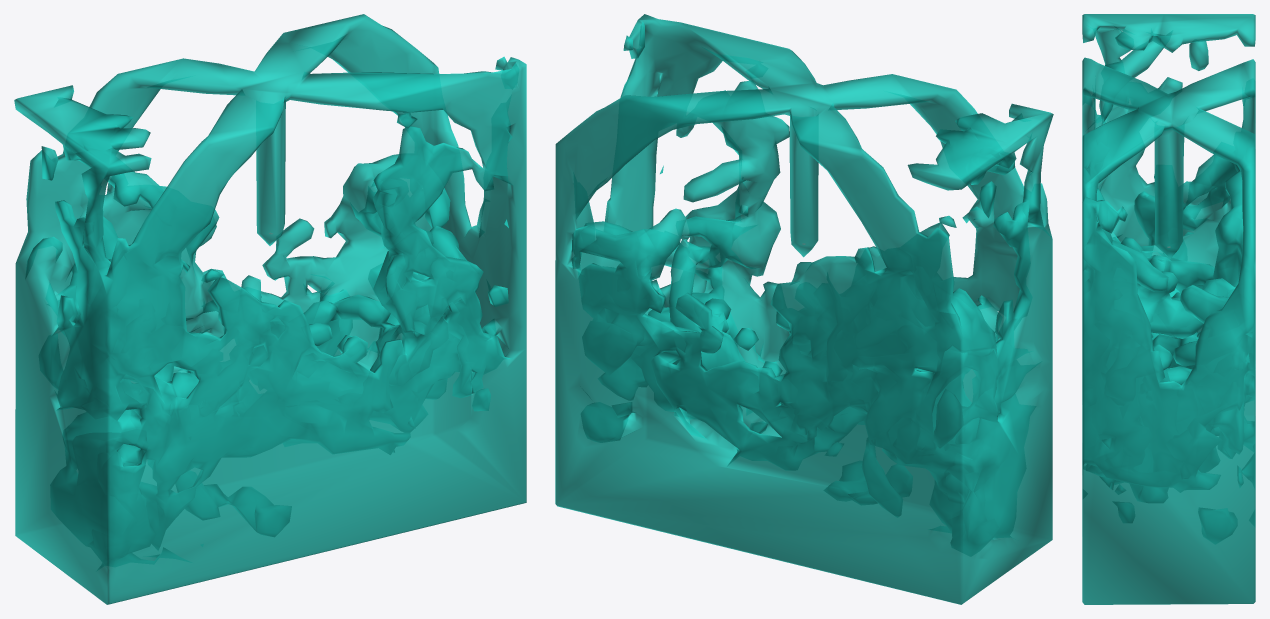
3 renders of one model, left to right at view 1: azimuth 30°, elevation 25°; view 2: azimuth 150°, elevation 25°; view 3: azimuth 270°, elevation 25°, orthographic. The views are drawn at different scales.
Visible parts, largest first — view 1: Liquid_Domain; view 2: Liquid_Domain; view 3: Liquid_Domain.
Boxes of the visible parts, bbox=[...] form: Liquid_Domain: bbox=[14, 14, 526, 604]; Liquid_Domain: bbox=[555, 14, 1053, 604]; Liquid_Domain: bbox=[1082, 14, 1255, 604].
Size of the model in its own units: 884 by 884 by 345.
